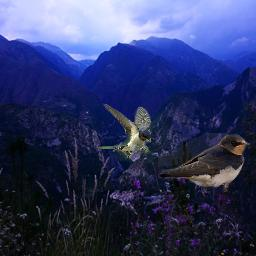Swallow: (158, 133, 250, 192), (99, 103, 151, 158)
